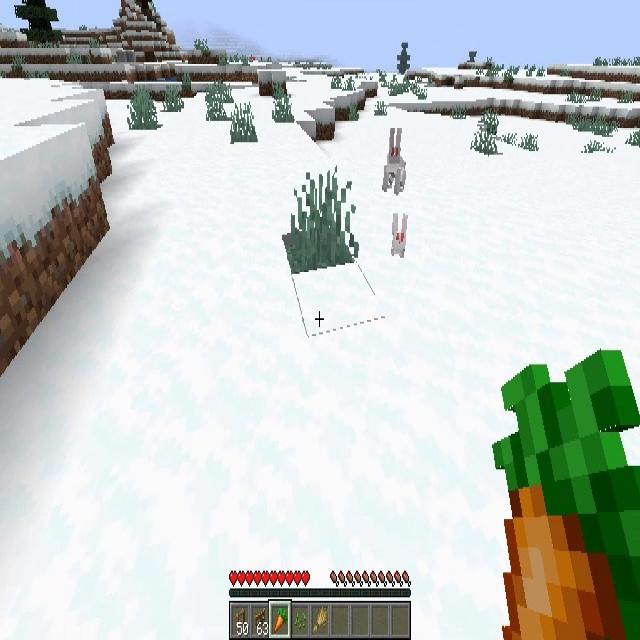rabbit: (382, 129, 406, 194), (391, 212, 408, 257)
